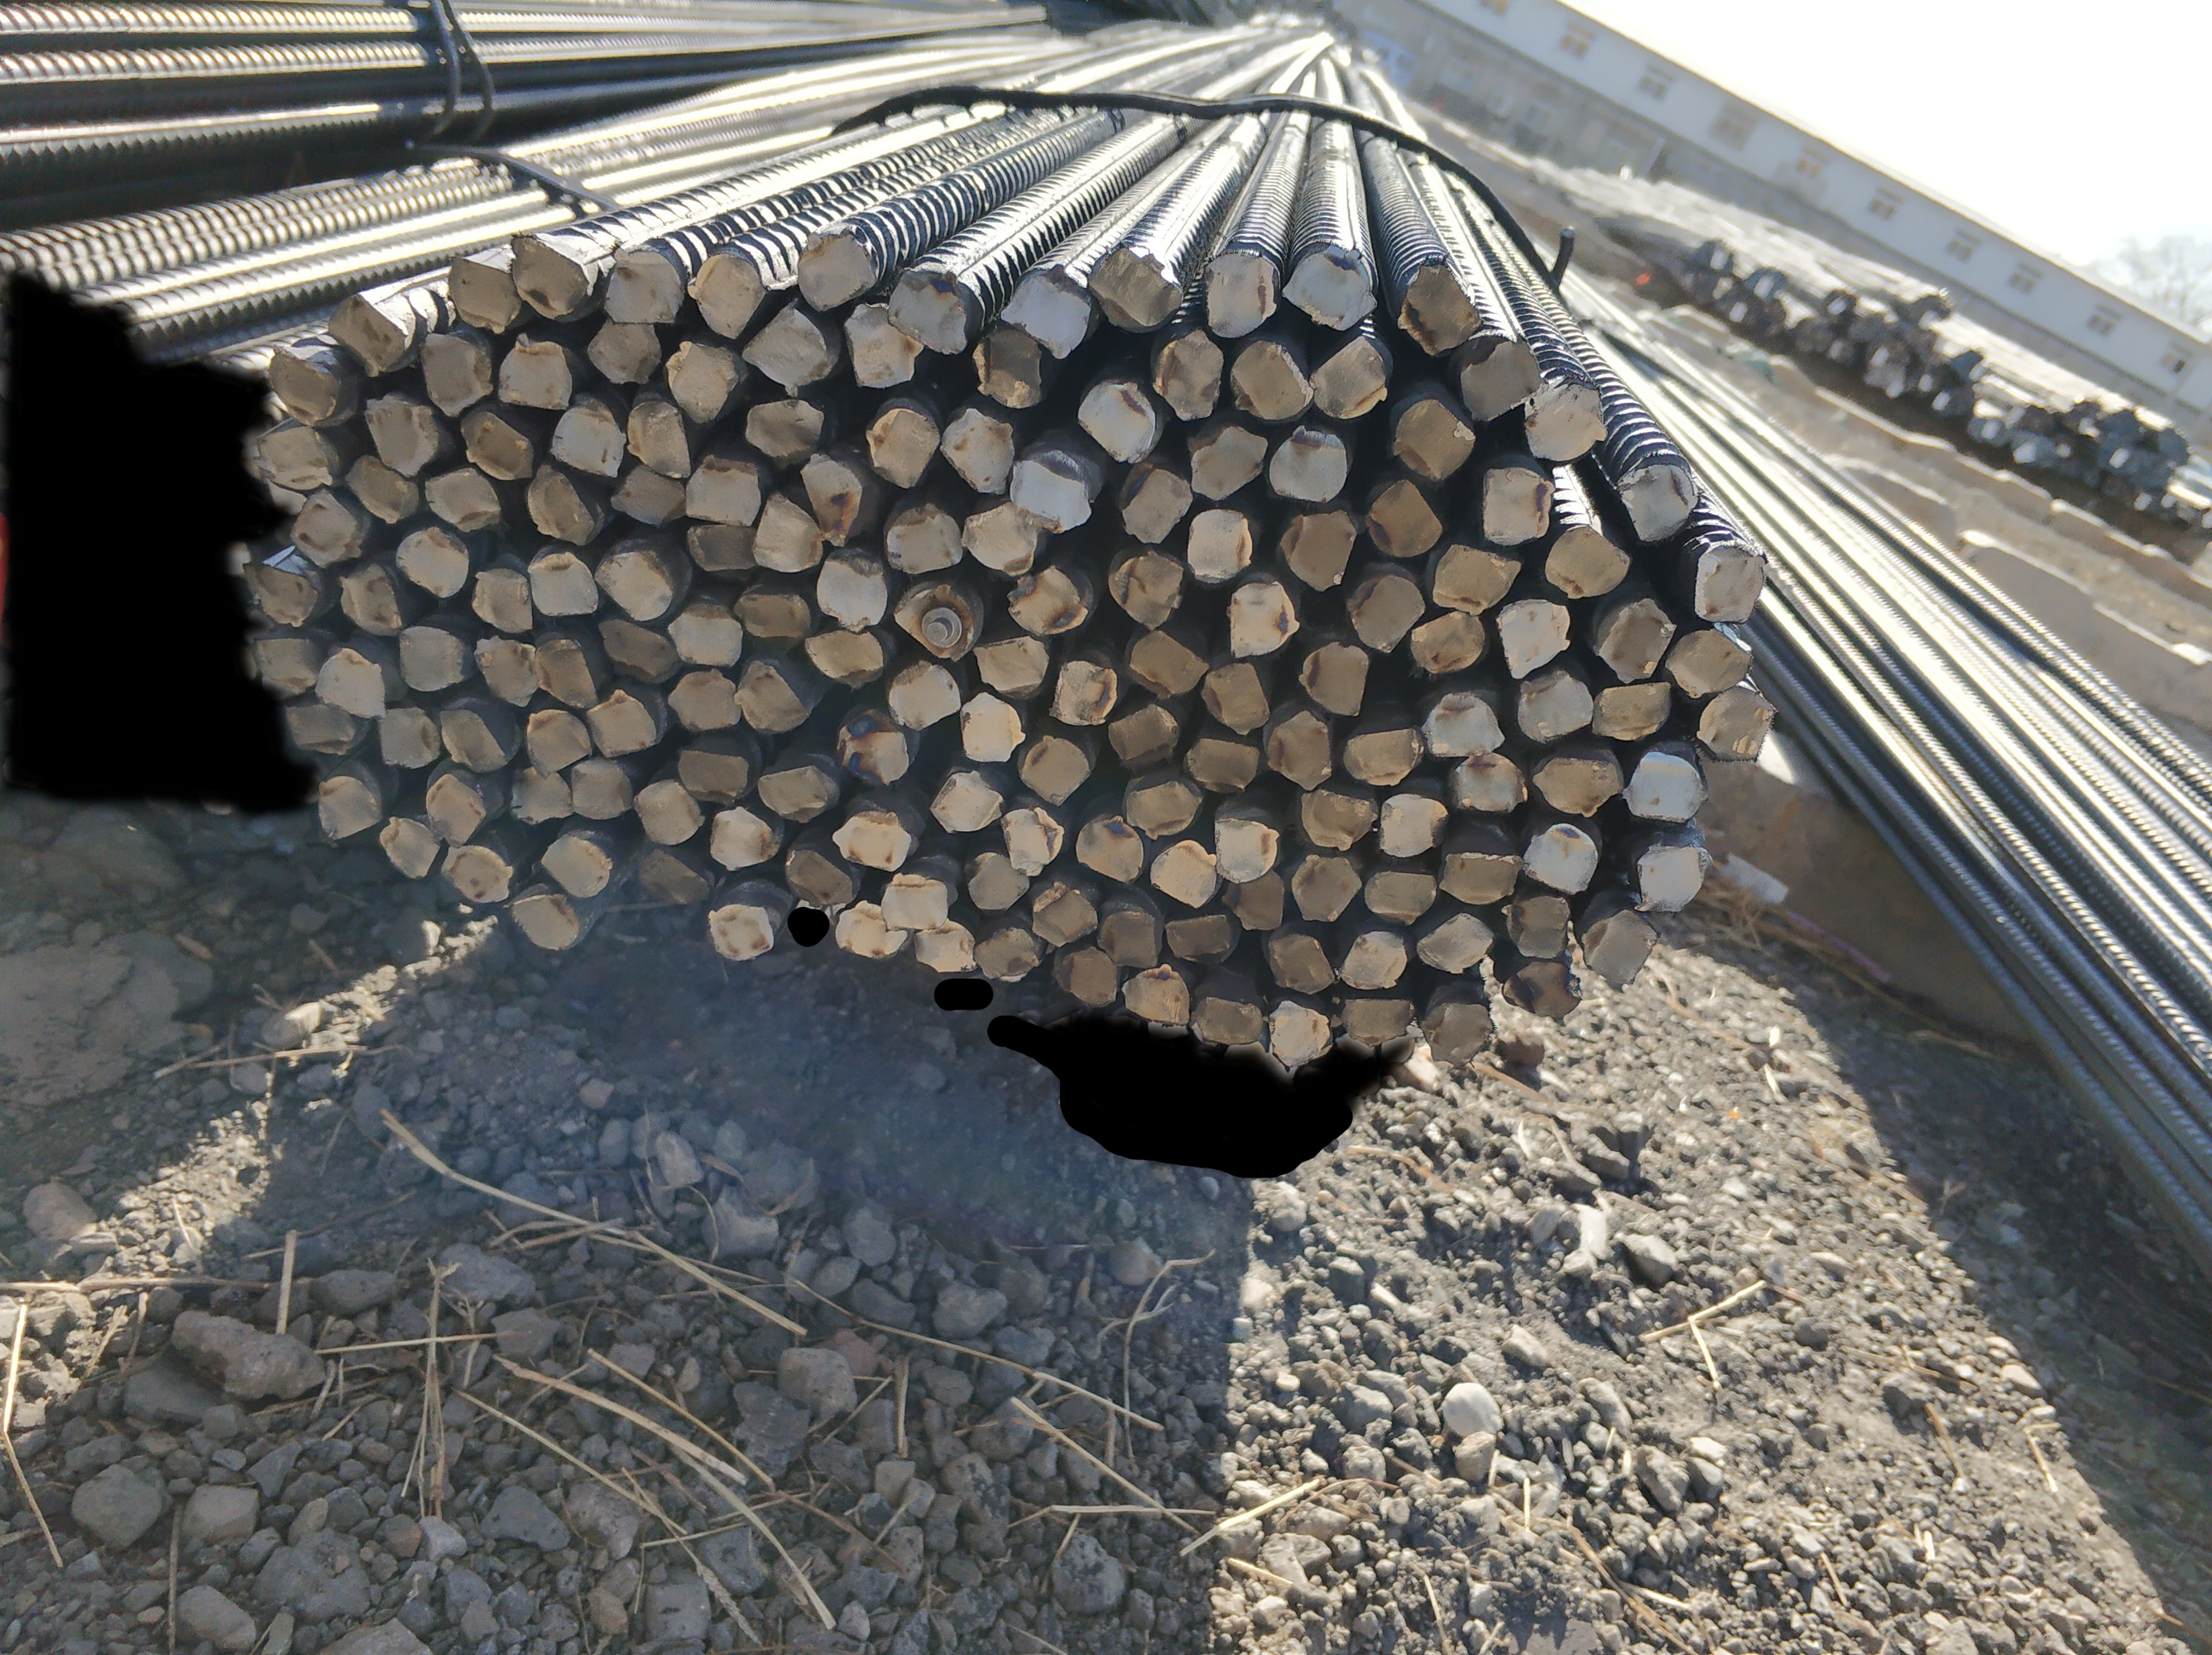rebar: (1001, 263, 1089, 362), (1084, 243, 1183, 332), (740, 304, 836, 395), (1395, 259, 1482, 358), (1281, 245, 1378, 332), (1458, 334, 1545, 424), (937, 403, 1018, 499), (1619, 461, 1706, 549), (1519, 382, 1611, 466), (509, 231, 591, 323), (686, 250, 766, 344), (1202, 243, 1279, 341), (841, 299, 923, 389), (1392, 396, 1477, 482), (1227, 337, 1314, 421), (1307, 330, 1390, 417), (1150, 327, 1223, 424), (1010, 450, 1091, 537), (1595, 598, 1677, 685), (888, 268, 968, 356), (1619, 749, 1710, 827), (1362, 475, 1446, 558), (1541, 522, 1630, 600), (601, 243, 683, 327), (1270, 421, 1354, 502), (893, 582, 978, 662), (262, 339, 341, 426), (328, 289, 405, 377), (417, 330, 493, 419), (1079, 377, 1156, 466), (1003, 562, 1091, 638), (1663, 626, 1755, 699), (796, 228, 876, 311), (1347, 572, 1427, 655), (664, 339, 740, 426), (1109, 544, 1185, 631), (1432, 542, 1524, 614), (1189, 421, 1270, 501), (961, 497, 1044, 575), (1694, 685, 1778, 763), (1494, 596, 1573, 680), (1281, 506, 1357, 591), (523, 462, 598, 549), (799, 450, 865, 548), (361, 395, 440, 476), (732, 657, 808, 741), (864, 405, 940, 489), (1519, 819, 1602, 895), (1692, 535, 1767, 621), (1581, 909, 1659, 989), (836, 709, 912, 791), (593, 548, 676, 622), (448, 252, 523, 336), (881, 501, 964, 575), (970, 327, 1044, 410), (1117, 461, 1192, 544), (1479, 462, 1553, 546), (815, 548, 888, 633), (679, 454, 766, 525), (499, 332, 575, 412), (749, 492, 824, 574), (1225, 577, 1300, 659), (1265, 708, 1336, 793), (1124, 629, 1211, 699), (1420, 688, 1507, 758), (311, 645, 389, 721), (884, 659, 963, 735), (238, 558, 320, 631), (1533, 749, 1621, 815), (393, 522, 469, 598), (255, 421, 334, 495), (459, 403, 533, 482), (598, 615, 681, 685), (551, 403, 627, 478), (1633, 838, 1708, 914), (290, 492, 363, 570), (733, 591, 811, 664), (1298, 638, 1369, 718), (1298, 784, 1378, 855), (744, 396, 825, 466), (1447, 746, 1531, 814), (584, 685, 659, 760), (1209, 810, 1284, 885), (1515, 669, 1593, 741), (532, 631, 599, 713), (831, 807, 912, 874), (626, 396, 690, 482), (1437, 843, 1522, 907), (1018, 732, 1091, 807), (1409, 605, 1486, 676), (424, 466, 504, 534), (1185, 506, 1253, 586), (587, 316, 662, 388), (1201, 661, 1272, 735), (344, 454, 421, 523), (662, 602, 744, 666), (436, 702, 507, 774), (334, 562, 403, 635), (836, 895, 909, 965), (957, 690, 1027, 763), (1150, 838, 1220, 911), (1293, 850, 1362, 923), (471, 631, 539, 706), (928, 767, 1003, 834), (667, 668, 744, 734), (1418, 913, 1494, 979), (1592, 678, 1672, 741), (422, 770, 490, 843), (527, 549, 601, 615), (1124, 775, 1201, 840), (1345, 723, 1421, 788), (805, 628, 884, 688), (758, 761, 838, 822), (1501, 960, 1581, 1020), (634, 777, 704, 847), (1029, 880, 1098, 949), (1076, 814, 1145, 883), (313, 774, 384, 841), (523, 708, 594, 775), (707, 803, 775, 874), (1110, 701, 1178, 772), (1265, 998, 1333, 1069), (1380, 788, 1447, 859), (975, 633, 1048, 699), (1498, 894, 1571, 960), (441, 841, 516, 906), (506, 892, 582, 954), (632, 847, 709, 909), (396, 626, 466, 694), (1048, 659, 1117, 727), (1421, 1001, 1491, 1069), (540, 831, 612, 897), (252, 633, 325, 697), (676, 742, 749, 807), (1001, 805, 1065, 878), (1051, 942, 1119, 1010), (1341, 927, 1411, 993), (879, 869, 950, 934), (563, 758, 636, 821), (610, 466, 686, 525), (280, 702, 358, 760), (375, 706, 441, 774), (1121, 963, 1190, 1027), (1263, 930, 1333, 994), (784, 845, 855, 907), (1185, 737, 1260, 796), (685, 518, 761, 575), (1366, 867, 1439, 927), (469, 568, 533, 635), (377, 812, 440, 880), (707, 901, 775, 963), (963, 852, 1030, 914), (1222, 869, 1289, 932), (1164, 909, 1235, 967), (509, 763, 572, 827), (1195, 989, 1265, 1047), (1095, 911, 1161, 970), (1343, 994, 1416, 1047), (973, 925, 1039, 982), (914, 918, 980, 974)
